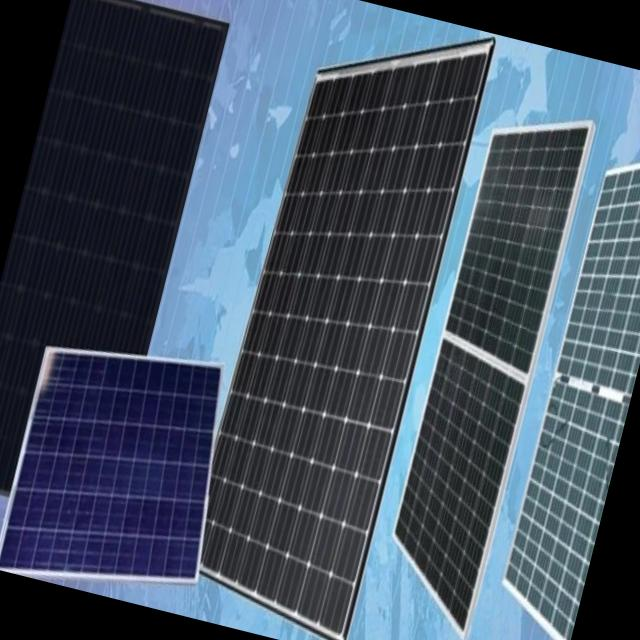no faulty: (201, 59, 481, 640), (0, 0, 224, 489), (395, 129, 589, 628), (508, 179, 640, 640), (2, 361, 217, 572)
